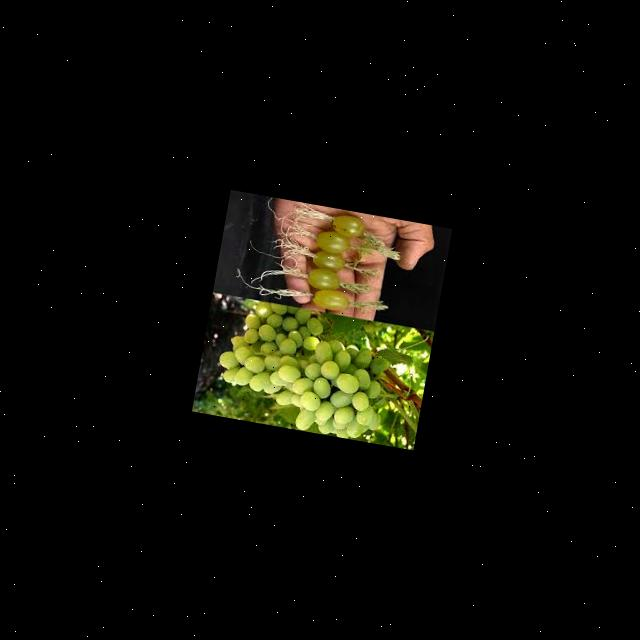grape: (208, 294, 398, 443)
